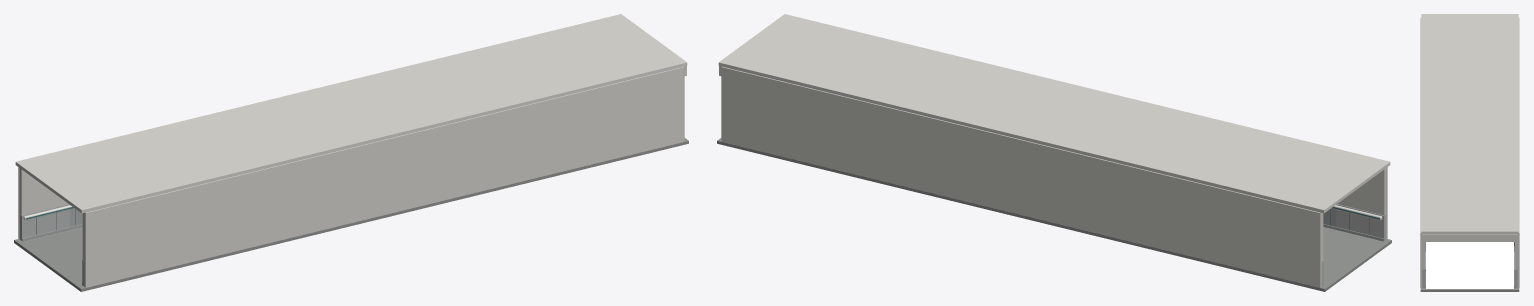
Rendered from corridor-reference-v2.glb.
3 views of the same model, side by side, from view 1: azimuth 30°, elevation 25°; view 2: azimuth 150°, elevation 25°; view 3: azimuth 270°, elevation 25° (orthographic). The views are drawn at different scales.
Parts seen in each view (by area): view 1: 墙壁2, 天花板, 地板, Architecture_CorridorV2; view 2: 墙壁, 天花板, 地板, Architecture_CorridorV2; view 3: 天花板, Architecture_CorridorV2, 墙壁, 墙壁2, 地板.
Part boxes in pixels (x1=…): 墙壁2: x1=84, y1=66, x2=684, y2=287; 天花板: x1=15, y1=14, x2=687, y2=213; 地板: x1=14, y1=138, x2=688, y2=291; Architecture_CorridorV2: x1=20, y1=66, x2=686, y2=286; 墙壁: x1=721, y1=66, x2=1321, y2=287; 天花板: x1=718, y1=14, x2=1390, y2=213; 地板: x1=717, y1=138, x2=1391, y2=291; Architecture_CorridorV2: x1=719, y1=66, x2=1385, y2=286; 天花板: x1=1421, y1=14, x2=1518, y2=233; Architecture_CorridorV2: x1=1422, y1=234, x2=1517, y2=288; 墙壁: x1=1517, y1=17, x2=1519, y2=287; 墙壁2: x1=1420, y1=17, x2=1422, y2=287; 地板: x1=1420, y1=288, x2=1519, y2=291.
Size of the model in its own units: 26.5 by 3.39 by 5.08.
Materials: 28 (4 with a texture image).
